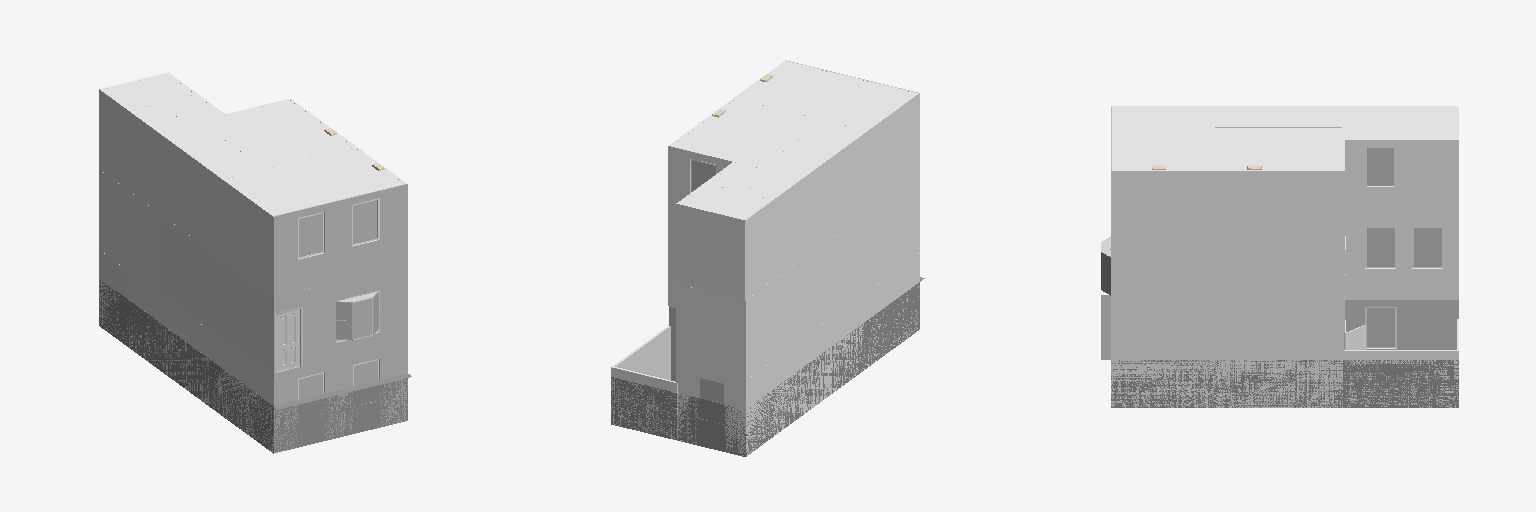
Rendered from multipleFloorsPlan.obj.
3 renders of one model, left to right at view 1: azimuth 30°, elevation 25°; view 2: azimuth 150°, elevation 25°; view 3: azimuth 270°, elevation 25°, orthographic.
Visible parts, largest first — view 1: ground_1, wall_12_63, wall_16_87, wall_25_141, wall_7_36, room_4_641, room_3_639, wall_13_69, wall_28_159, wall_32_183, room_9_650, wall_34_195 (+11 smaller); view 2: ground_1, wall_12_63, wall_25_141, room_4_641, wall_1_3, wall_14_75, room_3_639, wall_13_69, wall_34_195, wall_28_159, room_9_650, wall_26_147 (+10 smaller); view 3: wall_44_255, wall_20_111, ground_1, wall_8_42, wall_30_171, wall_2_9, wall_45_261, room_4_641, wall_38_219, room_3_639, wall_21_117, wall_22_123 (+11 smaller).
Part boxes in pixels (x1,y1,x2,y2): ground_1: (99,280,411,453); wall_12_63: (157,212,273,376); wall_16_87: (274,184,407,296); wall_25_141: (128,111,212,251); wall_7_36: (303,264,407,369); room_4_641: (226,148,403,214); room_3_639: (203,100,352,167); wall_13_69: (99,170,156,291); wall_28_159: (222,180,273,296); wall_32_183: (274,345,407,452); room_9_650: (131,104,263,177); wall_34_195: (128,271,212,405); ground_1: (611,277,924,456); wall_12_63: (803,173,919,337); wall_25_141: (774,138,858,278); room_4_641: (738,62,915,128); wall_1_3: (676,284,745,380); wall_14_75: (676,204,744,300); room_3_639: (672,99,822,166); wall_13_69: (746,259,802,379); wall_34_195: (774,298,858,435); wall_28_159: (869,93,919,209); room_9_650: (745,121,864,197); wall_26_147: (745,200,773,300); wall_44_255: (1213,251,1344,331); wall_20_111: (1213,171,1344,250); ground_1: (1101,295,1458,407); wall_8_42: (1111,251,1212,331); wall_30_171: (1111,171,1212,250); wall_2_9: (1345,220,1458,299); wall_45_261: (1230,332,1343,407); room_4_641: (1113,107,1211,169); wall_38_219: (1111,332,1212,407); room_3_639: (1215,128,1341,169); wall_21_117: (1402,140,1458,219); wall_22_123: (1345,140,1401,219).
Bounding box in the file's own units: 449 × 762 × 1038.